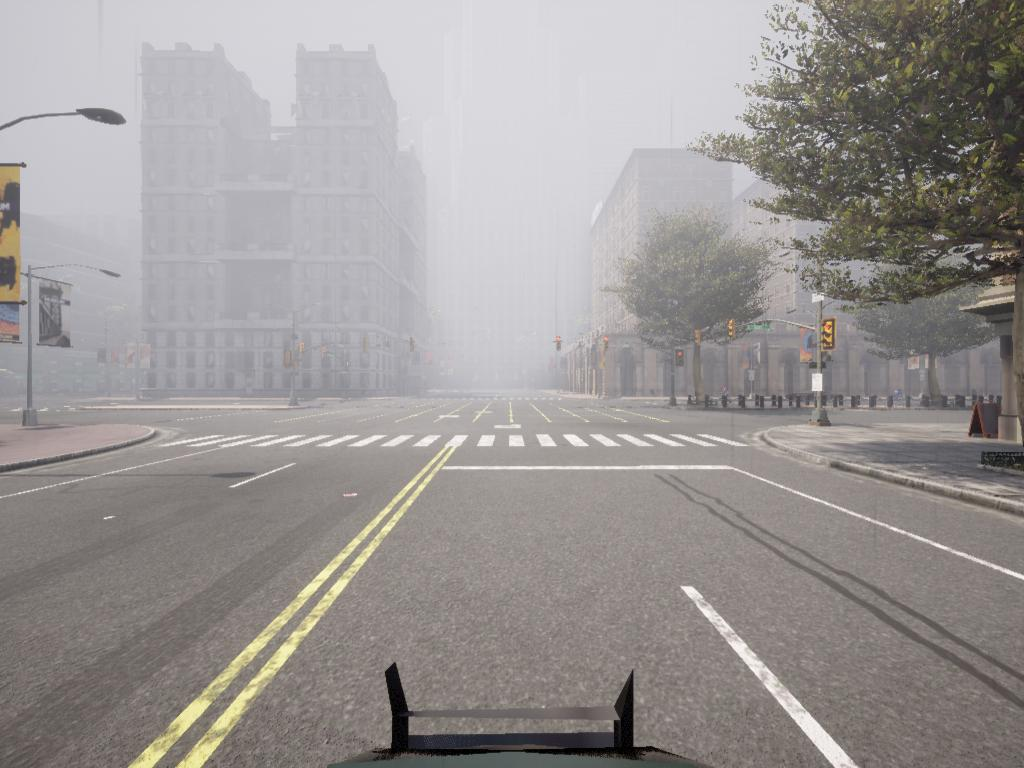traffic_light: (822, 321, 838, 350), (677, 348, 687, 370), (728, 321, 738, 342), (694, 330, 703, 348), (409, 337, 416, 353), (299, 343, 306, 359), (556, 337, 563, 351), (605, 338, 611, 353), (364, 339, 370, 353), (345, 362, 351, 374), (323, 346, 328, 360)
